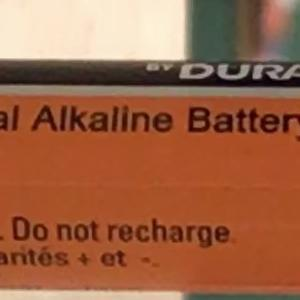keyword: (1, 95, 78, 141)
